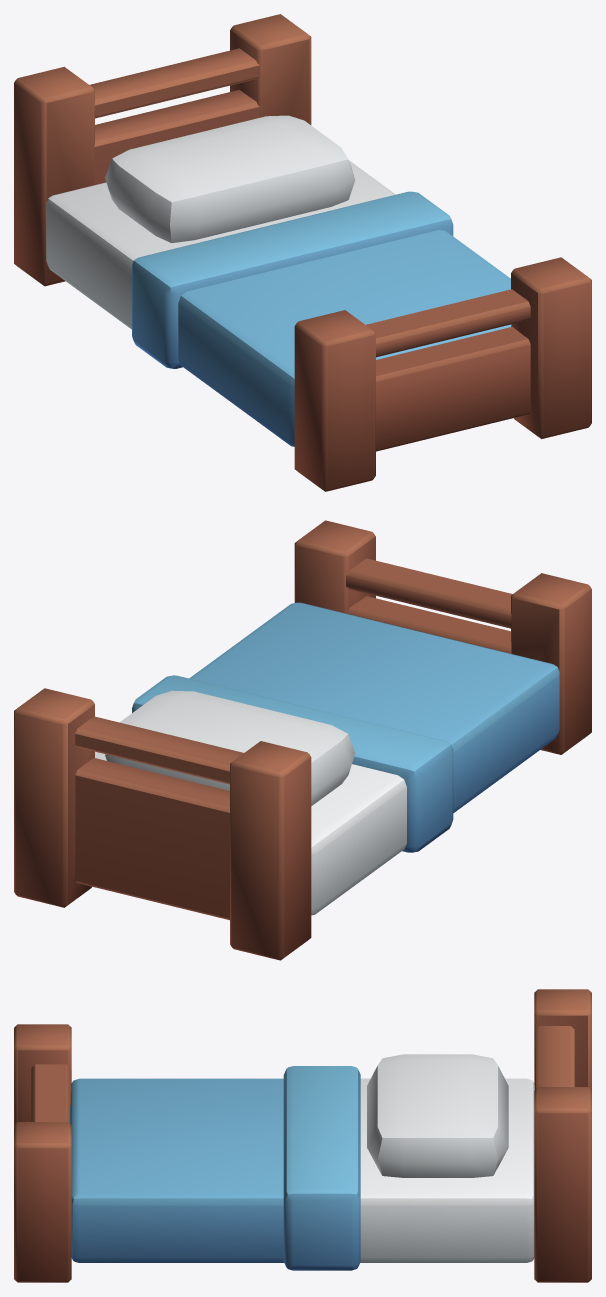
File: bed-single-b.glb
3 renders of one model, top to bottom at view 1: azimuth 30°, elevation 25°; view 2: azimuth 150°, elevation 25°; view 3: azimuth 270°, elevation 25°, orthographic. The views are drawn at different scales.
Parts seen in each view (by area): view 1: bed_single_B; view 2: bed_single_B; view 3: bed_single_B.
Boxes of the visible parts, x1,y1,x2,y2 form: bed_single_B: [14, 14, 591, 491]; bed_single_B: [14, 520, 591, 960]; bed_single_B: [14, 989, 591, 1282].
Bounding box in the file's own units: 1.6 × 1 × 3.
